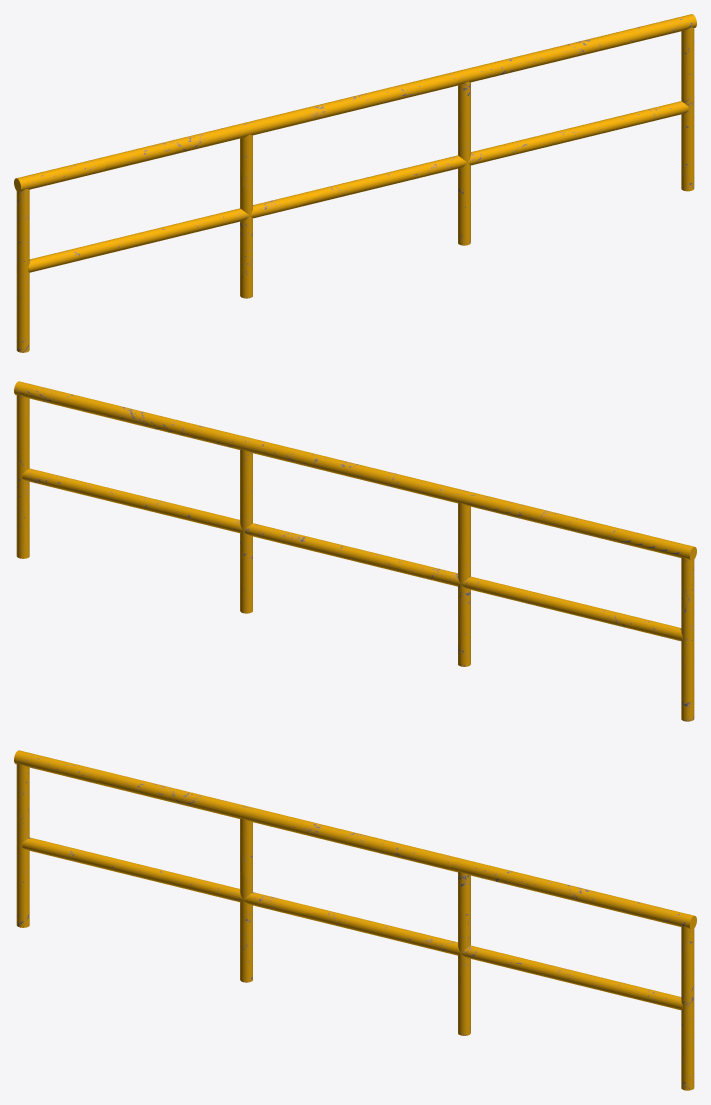
File: Rail_broken.fbx
3 views of the same model, one above another, from view 1: azimuth 30°, elevation 25°; view 2: azimuth 150°, elevation 25°; view 3: azimuth 330°, elevation 25° (orthographic).
Parts seen in each view (by area): view 1: Railing_Broken_Part_8, Railing_Broken_Part_10, Railing_Broken_Part_1, Railing_Broken_Part_6, Railing_Broken_Part_7, Railing_Broken_Part_4, Railing_Broken_Part_5, Railing_Broken_Part_2, Railing_Broken_Part_3; view 2: Railing_Broken_Part_8, Railing_Broken_Part_10, Railing_Broken_Part_1, Railing_Broken_Part_6, Railing_Broken_Part_7, Railing_Broken_Part_4, Railing_Broken_Part_5, Railing_Broken_Part_2, Railing_Broken_Part_3; view 3: Railing_Broken_Part_8, Railing_Broken_Part_10, Railing_Broken_Part_6, Railing_Broken_Part_1, Railing_Broken_Part_7, Railing_Broken_Part_4, Railing_Broken_Part_5, Railing_Broken_Part_2, Railing_Broken_Part_3.
Part boxes in pixels (left/top/right/bottom): Railing_Broken_Part_8: left=183, top=71, right=458, bottom=209; Railing_Broken_Part_10: left=423, top=56, right=548, bottom=245; Railing_Broken_Part_1: left=14, top=157, right=105, bottom=352; Railing_Broken_Part_6: left=609, top=14, right=696, bottom=191; Railing_Broken_Part_7: left=518, top=34, right=639, bottom=146; Railing_Broken_Part_4: left=76, top=140, right=175, bottom=261; Railing_Broken_Part_5: left=236, top=185, right=286, bottom=298; Railing_Broken_Part_2: left=288, top=164, right=426, bottom=209; Railing_Broken_Part_3: left=164, top=138, right=240, bottom=239; Railing_Broken_Part_8: left=252, top=439, right=527, bottom=577; Railing_Broken_Part_10: left=163, top=424, right=287, bottom=613; Railing_Broken_Part_1: left=605, top=525, right=696, bottom=721; Railing_Broken_Part_6: left=14, top=381, right=102, bottom=558; Railing_Broken_Part_7: left=68, top=402, right=192, bottom=514; Railing_Broken_Part_4: left=535, top=508, right=635, bottom=630; Railing_Broken_Part_5: left=423, top=554, right=474, bottom=666; Railing_Broken_Part_2: left=284, top=531, right=422, bottom=577; Railing_Broken_Part_3: left=470, top=506, right=546, bottom=607; Railing_Broken_Part_8: left=182, top=791, right=457, bottom=913; Railing_Broken_Part_10: left=420, top=858, right=543, bottom=1035; Railing_Broken_Part_6: left=606, top=895, right=696, bottom=1090; Railing_Broken_Part_1: left=14, top=750, right=104, bottom=927; Railing_Broken_Part_7: left=517, top=873, right=636, bottom=998; Railing_Broken_Part_4: left=71, top=771, right=173, bottom=882; Railing_Broken_Part_5: left=234, top=870, right=283, bottom=982; Railing_Broken_Part_2: left=284, top=910, right=424, bottom=946; Railing_Broken_Part_3: left=160, top=788, right=237, bottom=900.
Bounding box in the file's own units: 396 × 96.76 × 7.93.
